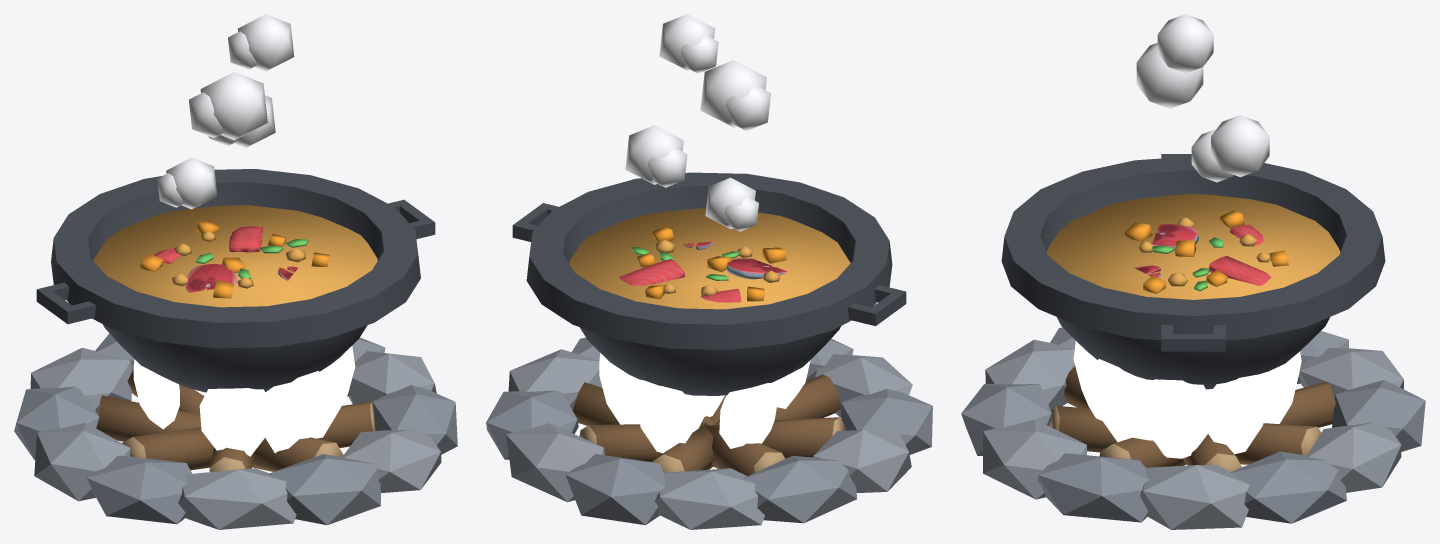
The model's file is Cauldron_Fire.glb.
3 renders of one model, left to right at view 1: azimuth 30°, elevation 25°; view 2: azimuth 150°, elevation 25°; view 3: azimuth 270°, elevation 25°, orthographic. The views are drawn at different scales.
Visible parts, largest first — view 1: Cauldron_Body, Cauldron_Stones, Cauldron_Broth, Cauldron_Fire_Flames, Cauldron_Fire_Steam, Cauldron_Firewood, Cauldron_Carrots, Cauldron_Tuna_Steak_01, Cauldron_Tuna_Fillet_01, Cauldron_Leaves; view 2: Cauldron_Body, Cauldron_Stones, Cauldron_Broth, Cauldron_Fire_Steam, Cauldron_Firewood, Cauldron_Fire_Flames, Cauldron_Carrots, Cauldron_Tuna_Fillet_01, Cauldron_Tuna_Steak_01; view 3: Cauldron_Stones, Cauldron_Body, Cauldron_Broth, Cauldron_Fire_Flames, Cauldron_Fire_Steam, Cauldron_Firewood, Cauldron_Carrots, Cauldron_Tuna_Fillet_01, Cauldron_Tuna_Steak_01.
Part boxes in pixels (x1,y1,x2,y2): Cauldron_Body: (36, 169, 435, 392); Cauldron_Stones: (14, 333, 457, 529); Cauldron_Broth: (93, 205, 377, 307); Cauldron_Fire_Flames: (133, 346, 355, 456); Cauldron_Fire_Steam: (157, 14, 294, 209); Cauldron_Firewood: (96, 370, 375, 471); Cauldron_Carrots: (140, 220, 329, 298); Cauldron_Tuna_Steak_01: (185, 263, 237, 292); Cauldron_Tuna_Fillet_01: (229, 226, 262, 252); Cauldron_Leaves: (196, 239, 308, 278); Cauldron_Body: (512, 172, 906, 395); Cauldron_Stones: (486, 337, 932, 529); Cauldron_Broth: (569, 208, 850, 309); Cauldron_Fire_Steam: (625, 14, 770, 231); Cauldron_Firewood: (573, 374, 845, 475); Cauldron_Fire_Flames: (599, 353, 810, 453); Cauldron_Carrots: (637, 226, 786, 301); Cauldron_Tuna_Fillet_01: (619, 259, 684, 285); Cauldron_Tuna_Steak_01: (726, 258, 787, 279); Cauldron_Stones: (961, 327, 1425, 529); Cauldron_Body: (1001, 154, 1385, 389); Cauldron_Broth: (1046, 193, 1340, 299); Cauldron_Fire_Flames: (1073, 341, 1301, 458); Cauldron_Fire_Steam: (1136, 14, 1269, 182); Cauldron_Firewood: (1049, 366, 1335, 471); Cauldron_Carrots: (1124, 210, 1288, 293); Cauldron_Tuna_Fillet_01: (1209, 256, 1271, 285); Cauldron_Tuna_Steak_01: (1151, 224, 1198, 250).
Bounding box in the file's own units: 0.5903 × 0.6464 × 0.5947.
15 materials, 3 textured.
